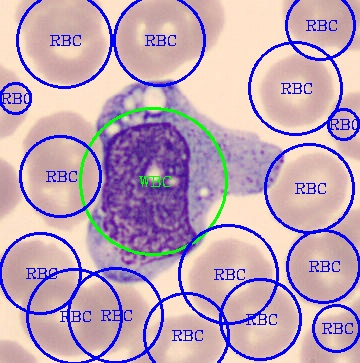RBC: (187, 235, 275, 320), (283, 210, 359, 308), (22, 2, 107, 87), (19, 277, 106, 358), (266, 150, 349, 234), (256, 50, 334, 129), (224, 281, 301, 361), (112, 0, 188, 80), (0, 238, 81, 305), (24, 99, 101, 167), (81, 281, 151, 354), (25, 155, 95, 227), (127, 310, 225, 361), (149, 0, 227, 63), (280, 0, 358, 50), (298, 310, 358, 361)
WBC: (86, 78, 279, 277)
